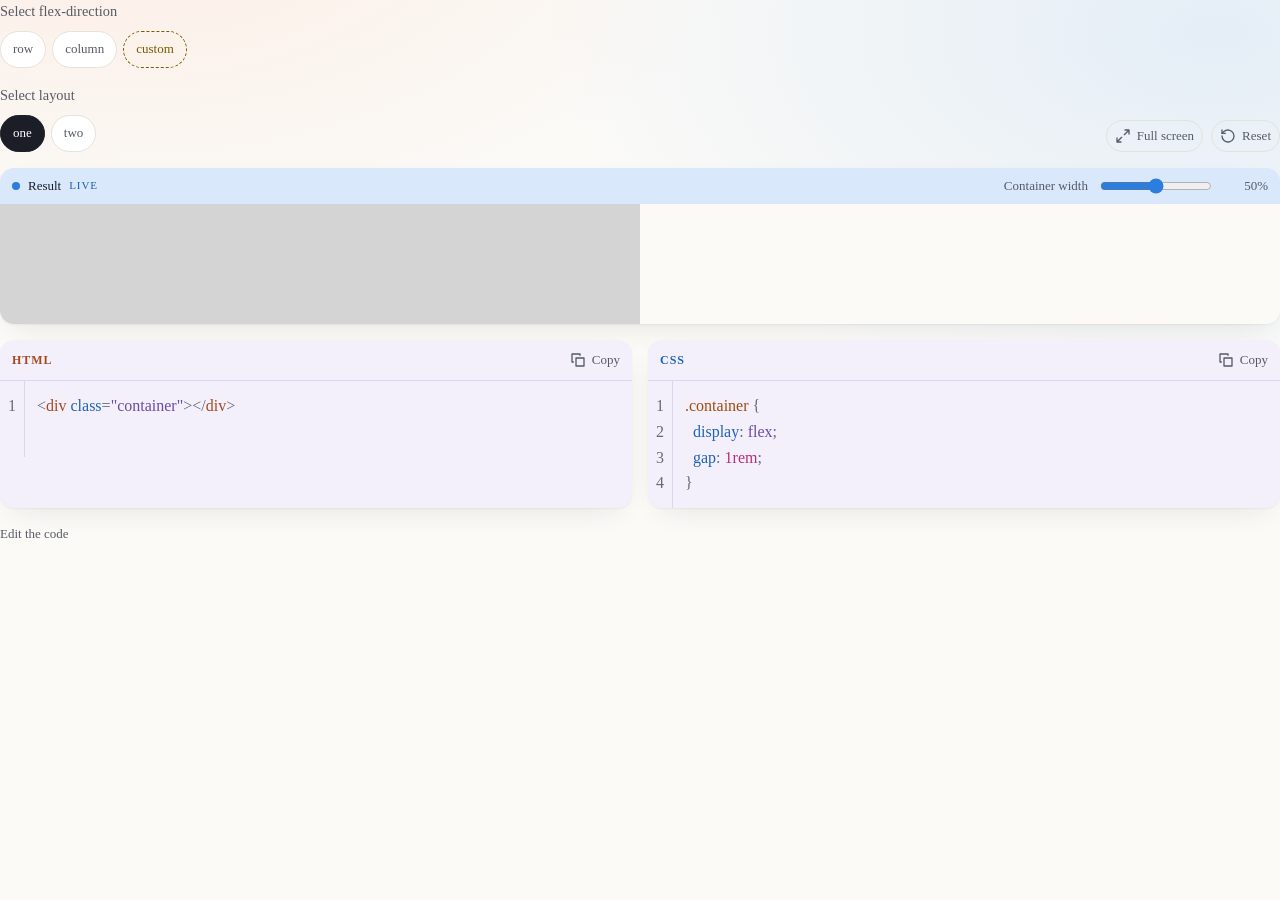
Scenario: Playground width and reset › starts at the example width and never goes below the minimum
The width and height of the screenshot is (1280, 900).
Set the slider labelled "Container width 50%" to "5": [1113, 186] box [1100,178,1212,194]
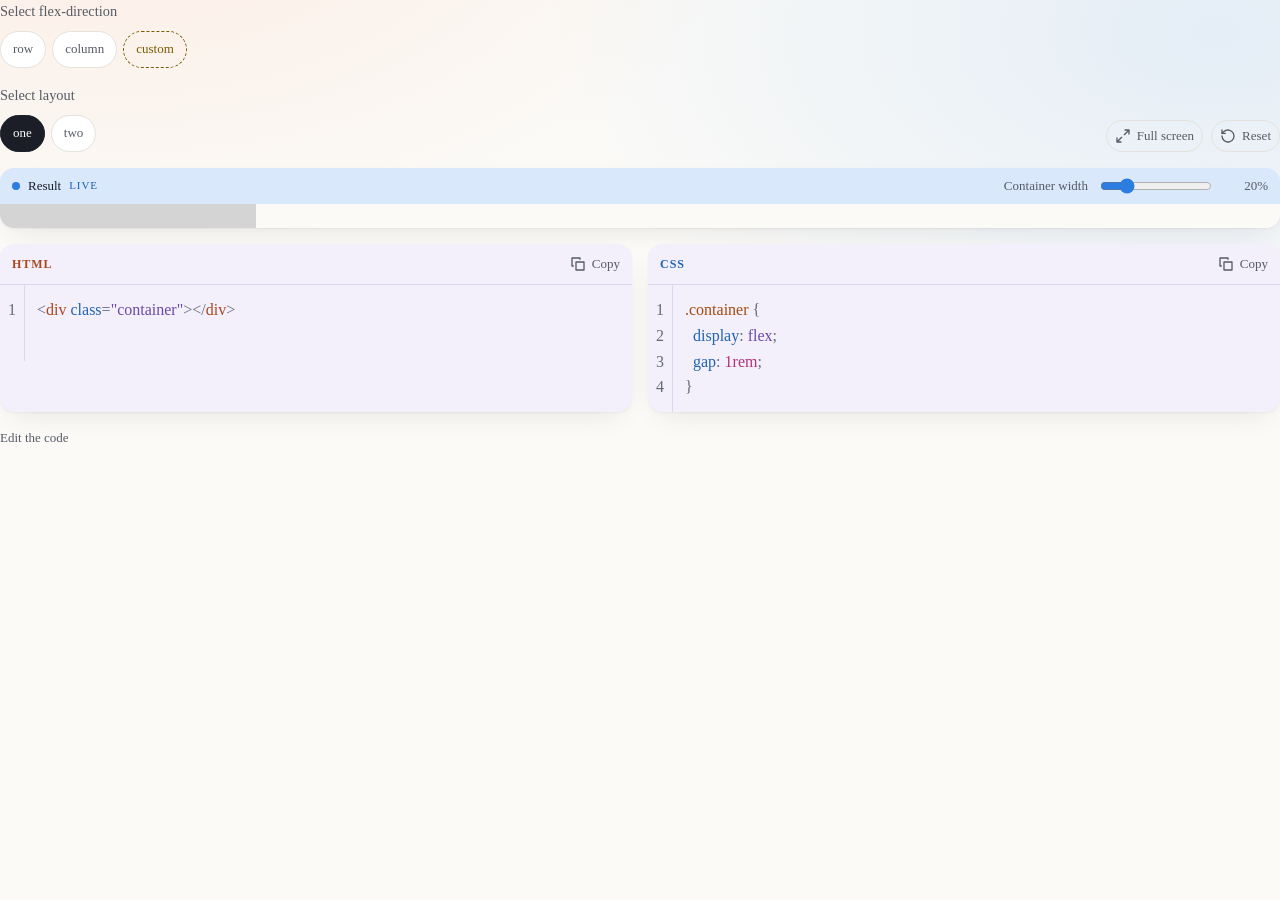
Check: the slider labelled "Container width 20%" holds "20", box [1100,178,1212,194]
Check: the text "20%" is shown, box [1244,178,1268,193]
